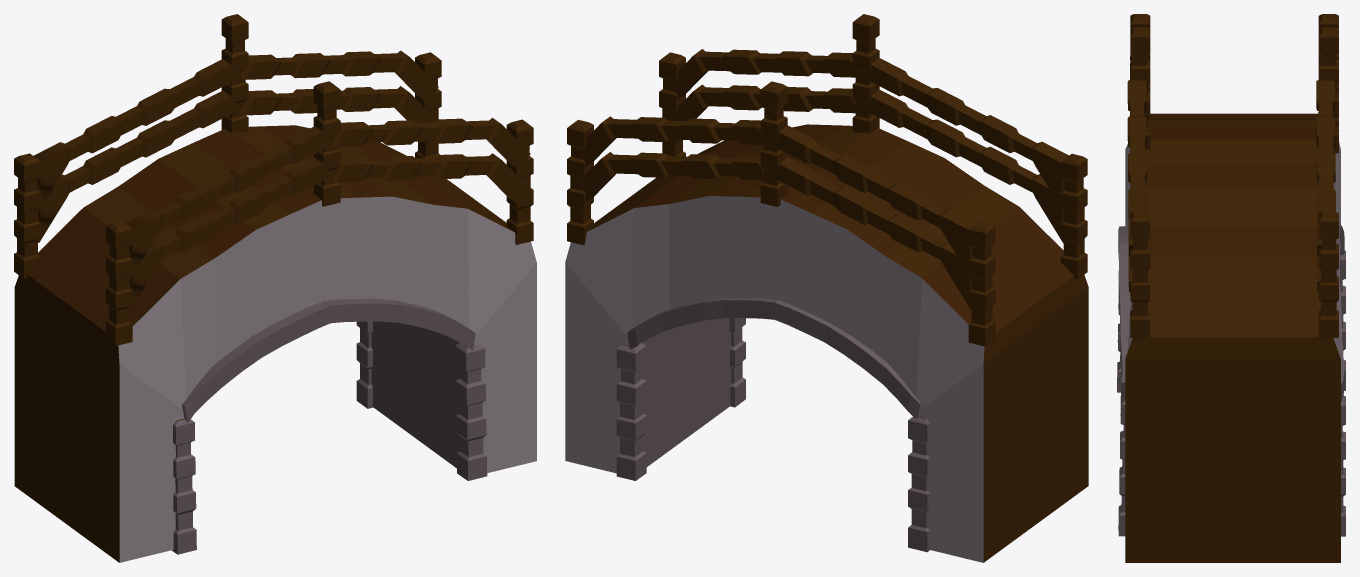
Rendered from brig.fbx.
The picture shows the model from 3 angles, left to right: view 1: azimuth 30°, elevation 25°; view 2: azimuth 150°, elevation 25°; view 3: azimuth 270°, elevation 25°; orthographic projection. The views are drawn at different scales.
Parts seen in each view (by area): view 1: Cube.005; view 2: Cube.005; view 3: Cube.005.
Part boxes in pixels (x1,y1,x2,y2): Cube.005: (14, 14, 536, 562); Cube.005: (565, 14, 1088, 562); Cube.005: (1117, 14, 1345, 562).
Size of the model in its own units: 1337 by 1289 by 616.
